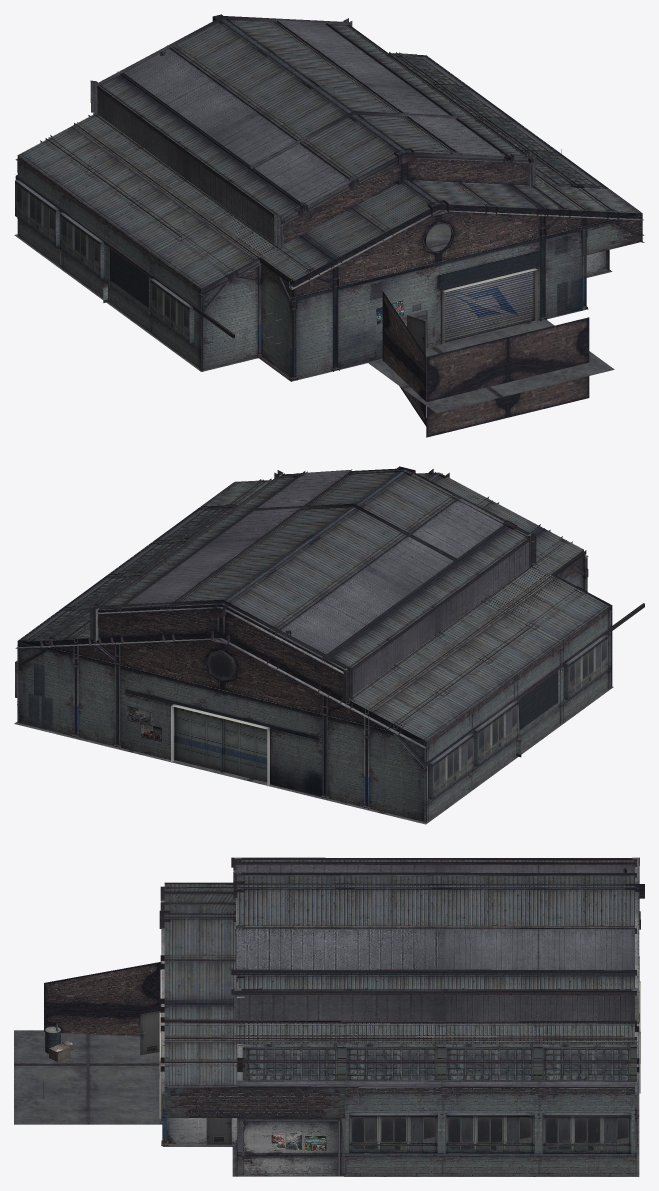
The model's file is nfs_no_limits_garage.glb.
3 renders of one model, top to bottom at view 1: azimuth 30°, elevation 25°; view 2: azimuth 150°, elevation 25°; view 3: azimuth 270°, elevation 25°, orthographic. The views are drawn at different scales.
Parts seen in each view (by area): view 1: MergeGroup_1_5, MergeGroup_1_3, MergeGroup_1_4, MergeGroup_1_0; view 2: MergeGroup_1_5, MergeGroup_1_3, MergeGroup_1_4, MergeGroup_1_0, MergeGroup_1_6; view 3: MergeGroup_1_5, MergeGroup_1_4, MergeGroup_1_3, MergeGroup_1_0, MergeGroup_2_2.
Part boxes in pixels (bbox=[...]): MergeGroup_1_5: bbox=[15, 14, 644, 381]; MergeGroup_1_3: bbox=[15, 21, 642, 437]; MergeGroup_1_4: bbox=[15, 20, 597, 342]; MergeGroup_1_0: bbox=[14, 224, 614, 413]; MergeGroup_1_5: bbox=[15, 466, 612, 822]; MergeGroup_1_3: bbox=[17, 470, 644, 822]; MergeGroup_1_4: bbox=[25, 469, 607, 799]; MergeGroup_1_0: bbox=[14, 686, 613, 824]; MergeGroup_1_6: bbox=[28, 496, 524, 730]; MergeGroup_1_5: bbox=[159, 857, 644, 1175]; MergeGroup_1_4: bbox=[235, 864, 636, 1153]; MergeGroup_1_3: bbox=[43, 857, 640, 1156]; MergeGroup_1_0: bbox=[14, 970, 639, 1176]; MergeGroup_2_2: bbox=[44, 1023, 73, 1061].
Size of what is drawn, in the model's own units: 19.62 by 9.31 by 23.69.
Materials: 7 (7 with a texture image).
